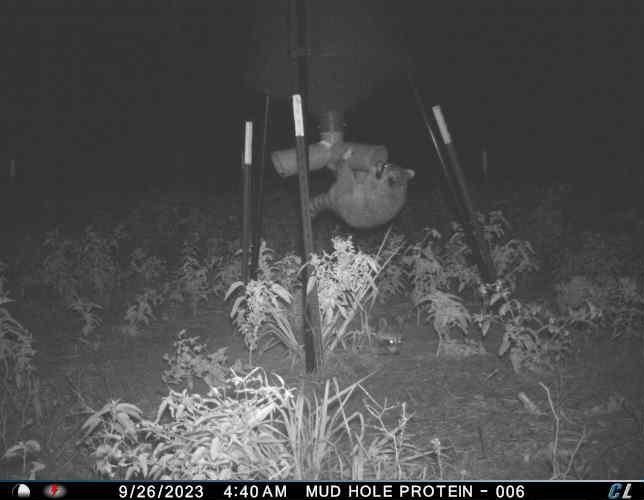Raccoon: (308, 160, 417, 233)
